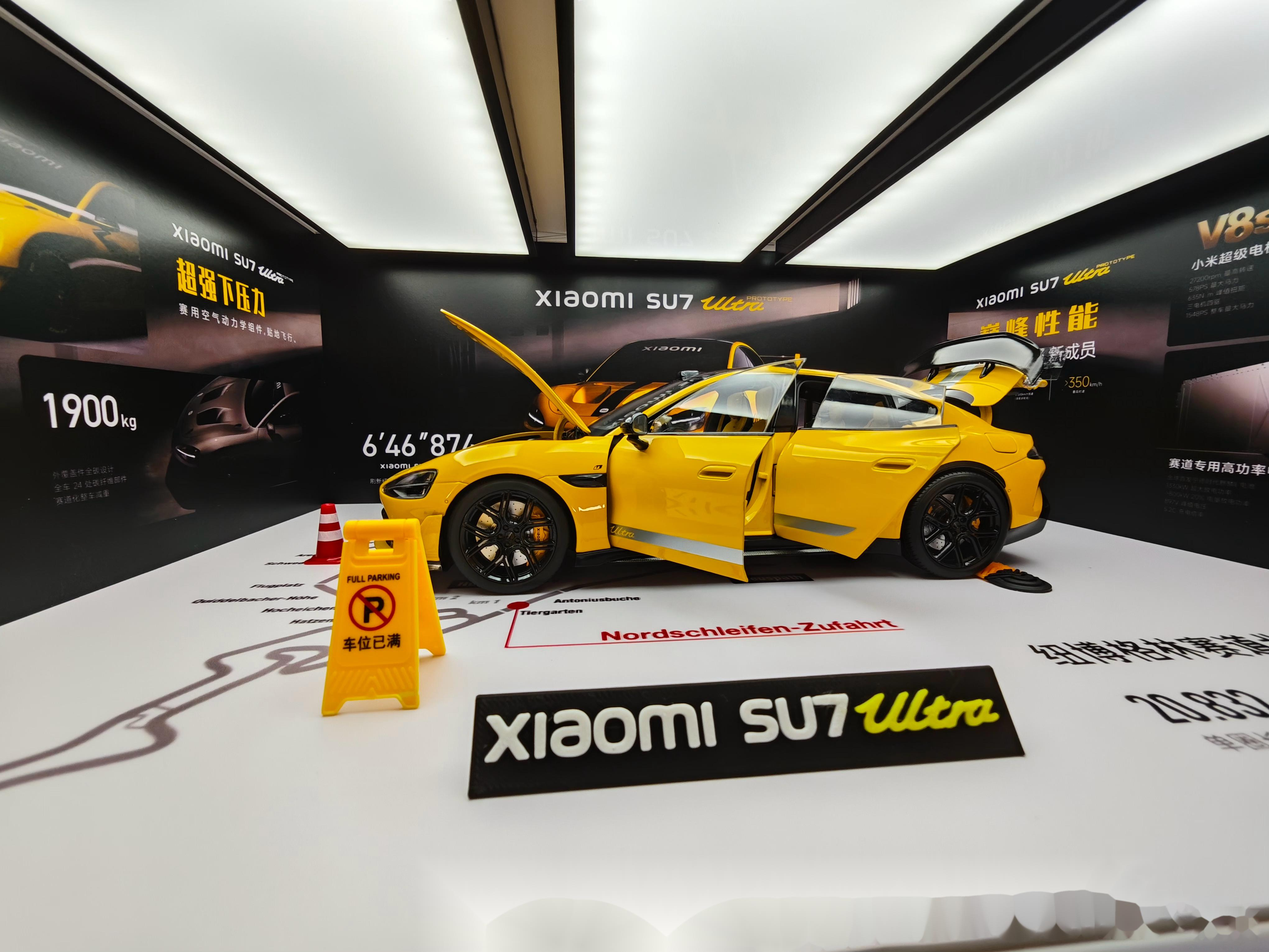su7: (392, 370, 1048, 581)
